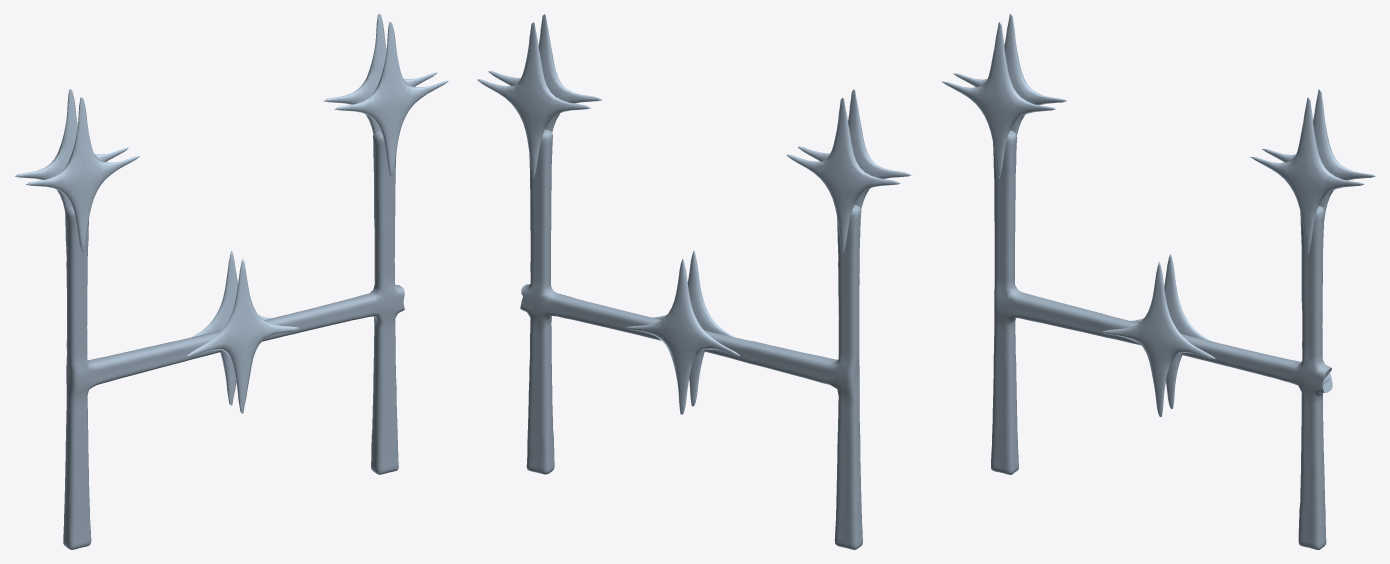
File: SM_cercaB.fbx
3 views of the same model, side by side, from view 1: azimuth 30°, elevation 25°; view 2: azimuth 150°, elevation 25°; view 3: azimuth 330°, elevation 25° (orthographic).
Visible parts, largest first — view 1: PolySphere15.002; view 2: PolySphere15.002; view 3: PolySphere15.002.
Boxes of the visible parts, x1,y1,x2,y2 form: PolySphere15.002: [15, 14, 448, 549]; PolySphere15.002: [477, 14, 911, 549]; PolySphere15.002: [942, 14, 1375, 549].
Bounding box in the file's own units: 1.36 × 1.39 × 0.0912.
